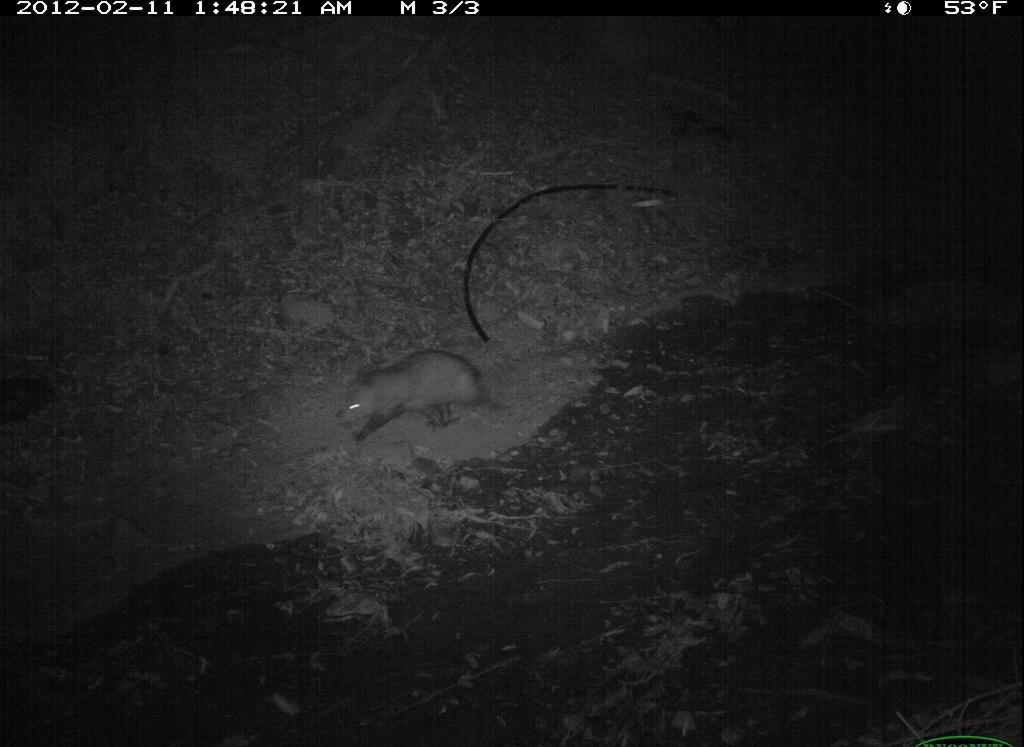opossum: (335, 347, 551, 449)
